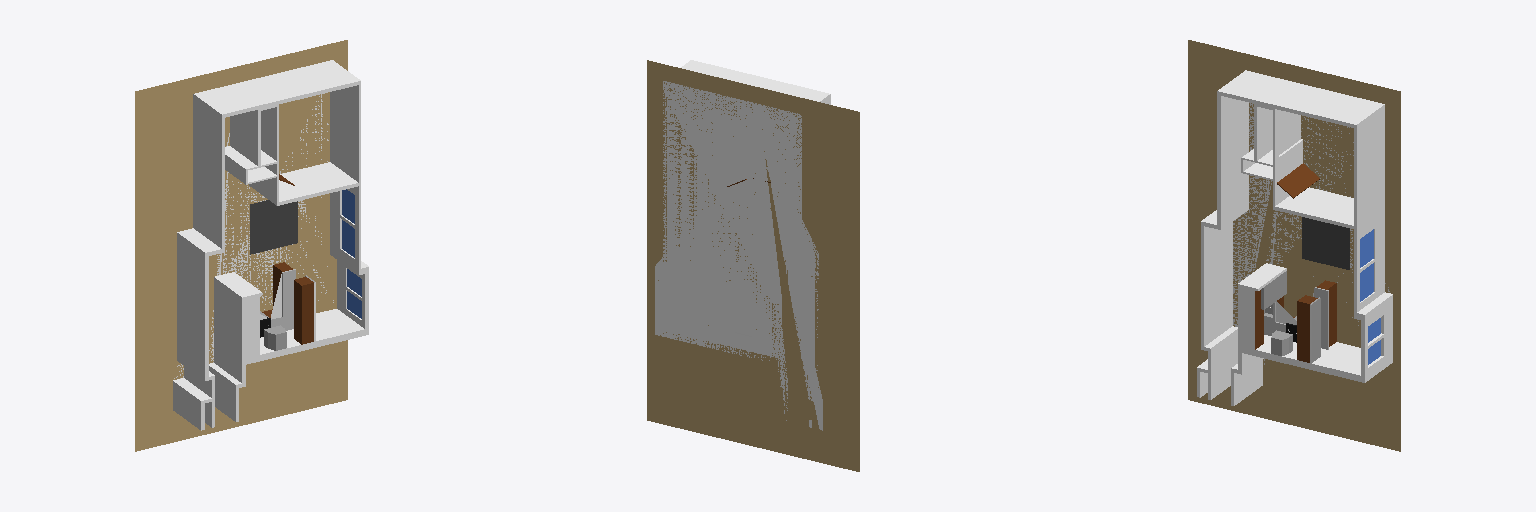
The model's file is floorplan1.obj.
3 views of the same model, side by side, from view 1: azimuth 30°, elevation 25°; view 2: azimuth 150°, elevation 25°; view 3: azimuth 330°, elevation 25° (orthographic).
Visible parts, largest first — view 1: Mesh7 Apartment_Floorplan1 Model, Mesh1 Group1 Model, Mesh4 Group4 Model, Mesh2 Group2 Model, Mesh3 Group3 Model; view 2: Mesh1 Group1 Model, Mesh7 Apartment_Floorplan1 Model; view 3: Mesh7 Apartment_Floorplan1 Model, Mesh1 Group1 Model, Mesh4 Group4 Model, Mesh2 Group2 Model, Mesh6 Group6 Model.
Boxes of the visible parts, x1=… form: Mesh7 Apartment_Floorplan1 Model: x1=173, y1=60, x2=368, y2=430; Mesh1 Group1 Model: x1=135, y1=40, x2=347, y2=451; Mesh4 Group4 Model: x1=250, y1=200, x2=297, y2=254; Mesh2 Group2 Model: x1=342, y1=189, x2=354, y2=257; Mesh3 Group3 Model: x1=347, y1=269, x2=361, y2=318; Mesh1 Group1 Model: x1=647, y1=60, x2=859, y2=471; Mesh7 Apartment_Floorplan1 Model: x1=655, y1=60, x2=830, y2=430; Mesh7 Apartment_Floorplan1 Model: x1=1197, y1=70, x2=1392, y2=405; Mesh1 Group1 Model: x1=1188, y1=40, x2=1400, y2=451; Mesh4 Group4 Model: x1=1302, y1=217, x2=1349, y2=269; Mesh2 Group2 Model: x1=1360, y1=229, x2=1373, y2=301; Mesh6 Group6 Model: x1=1277, y1=163, x2=1319, y2=198.
Bounding box in the file's own units: 9835 × 15914 × 2280.